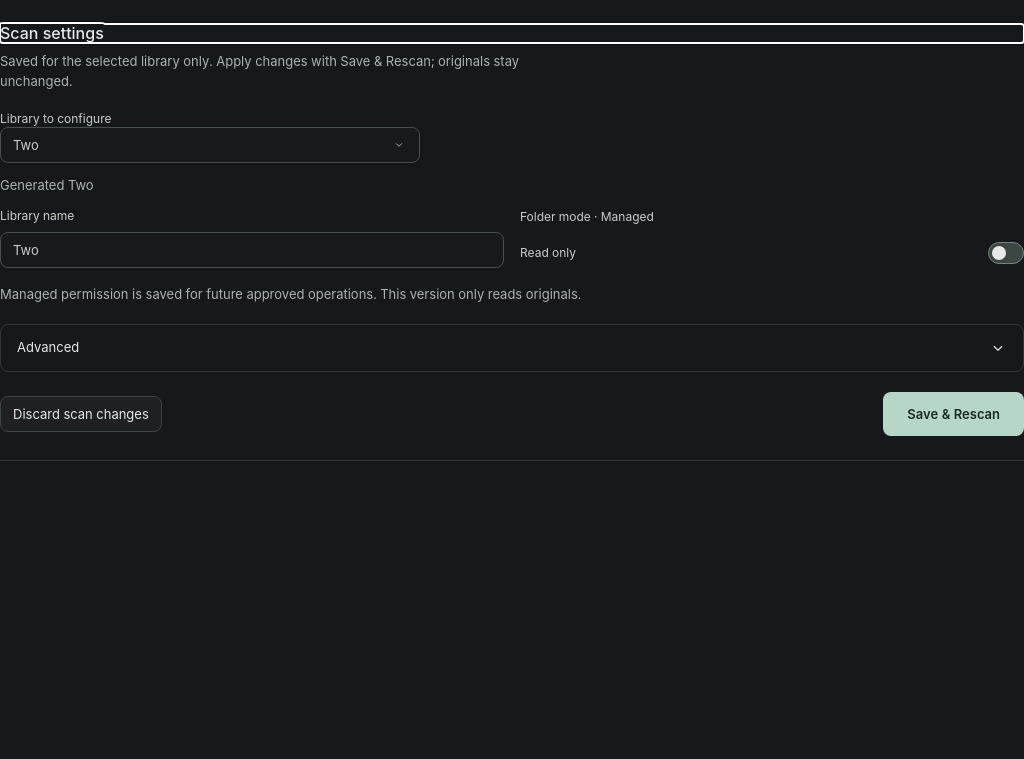
Test: starts with the requested library and submits its ID with pending scan edits only on explicit rescan
This screenshot has width=1024, height=759.
Expected: the dropdown labelled "Library to configure" shows "Two", [0, 127, 420, 163]
Click the heading "Advanced": coordinates (48, 347) [17, 339, 1007, 357]
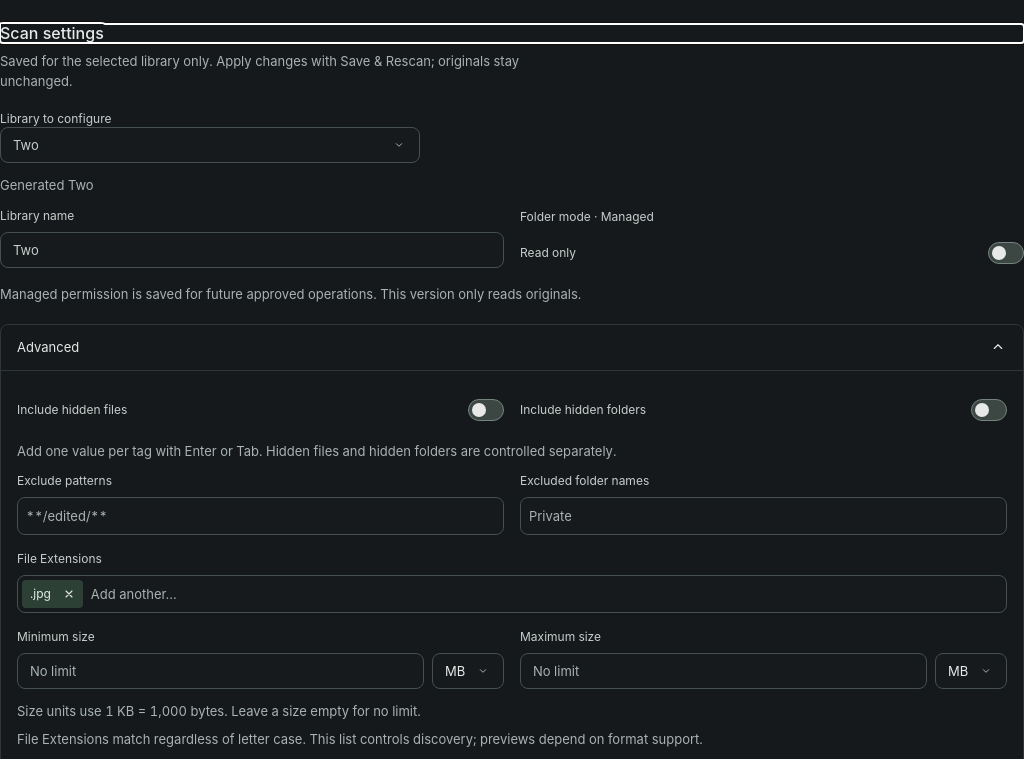
In the field labelled "File Extensions": coordinates (544, 594) [87, 580, 1002, 608], type ".WEBP"
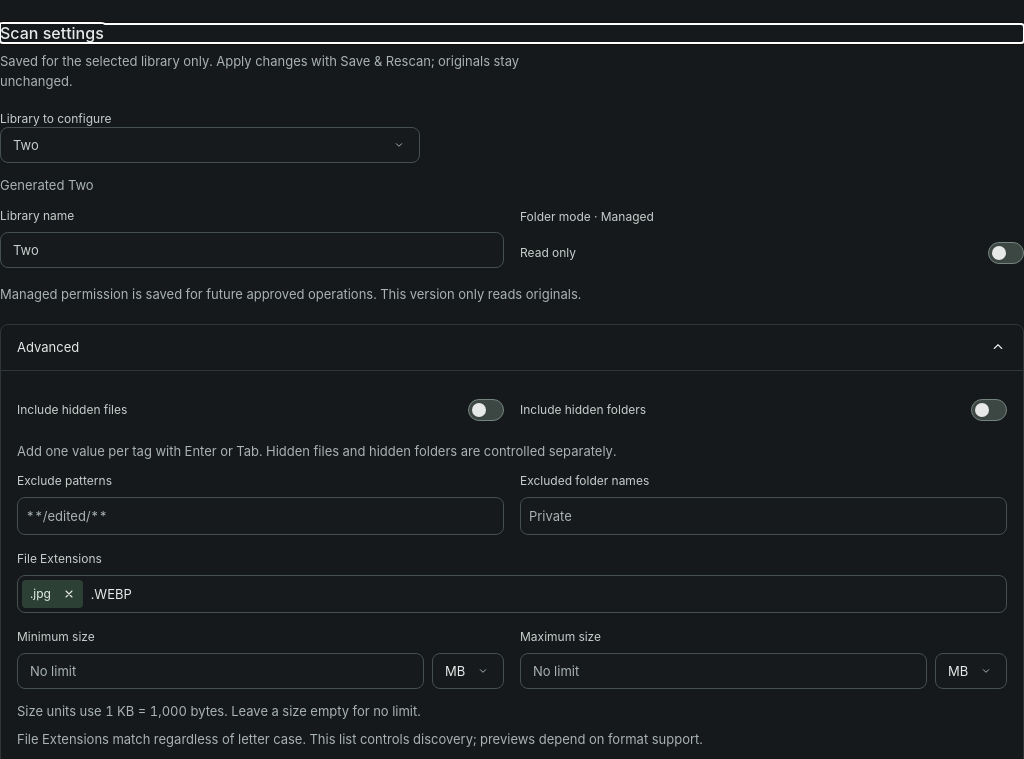
Click the switch labelled "Read only": coordinates (1006, 253) [988, 242, 1023, 264]
(page scrolled)
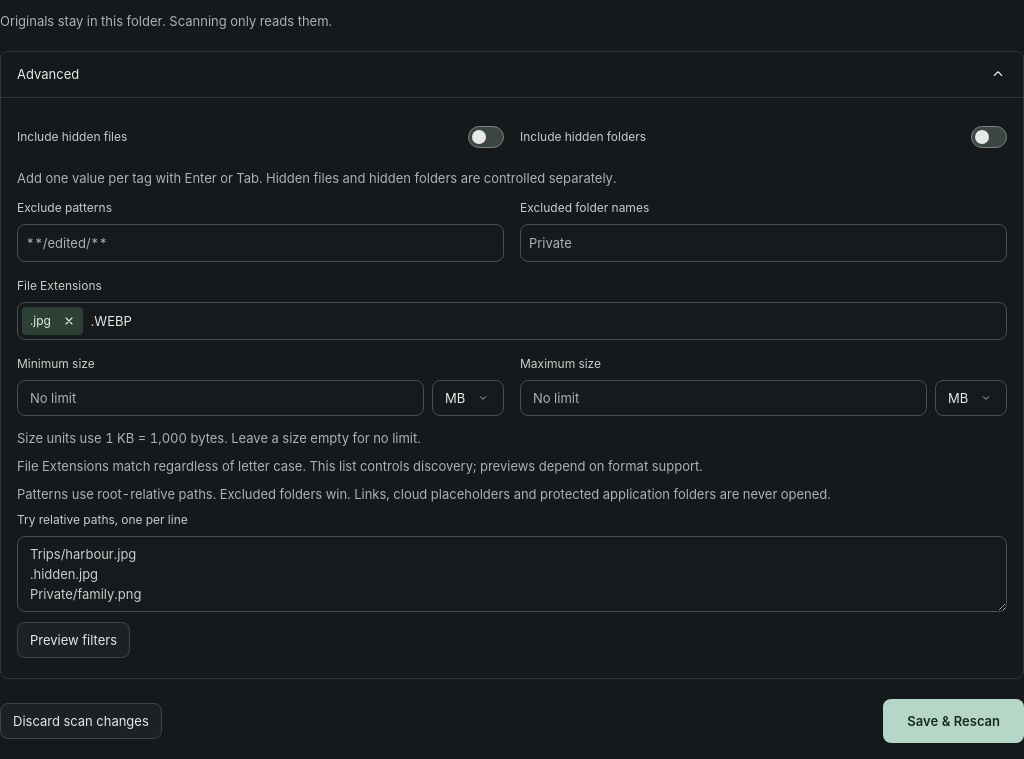
Click the button "Save & Rescan": coordinates (954, 721) [883, 699, 1023, 743]
(page scrolled)
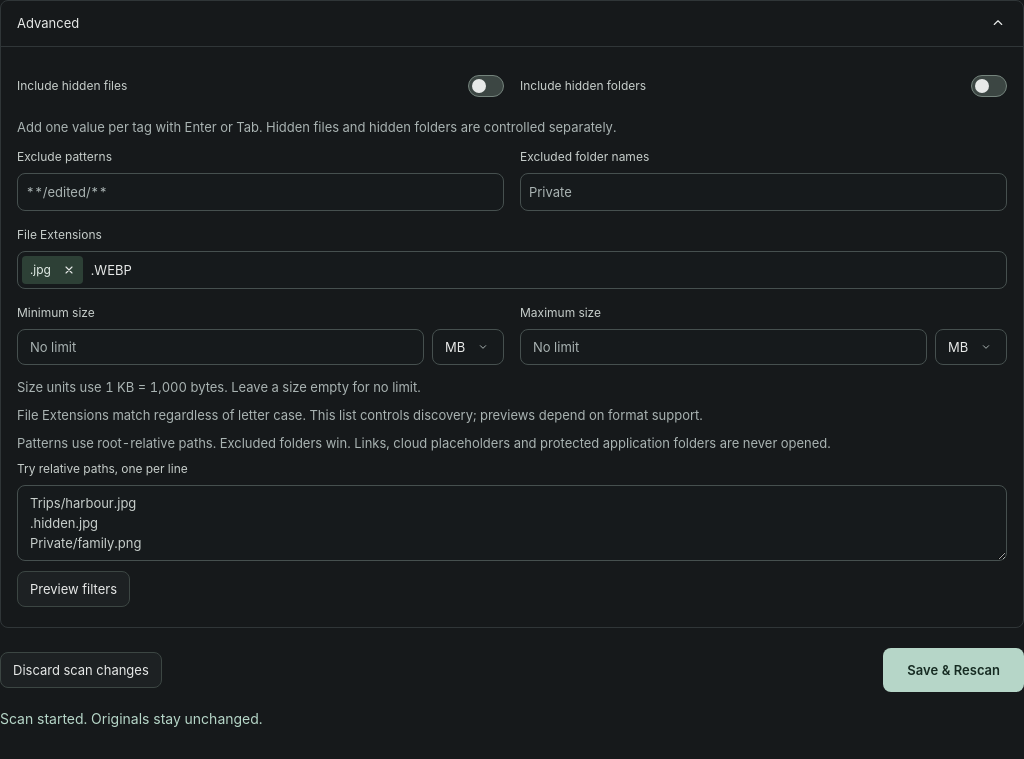
Expected: the message shows "Scan started", [0, 710, 263, 727]
